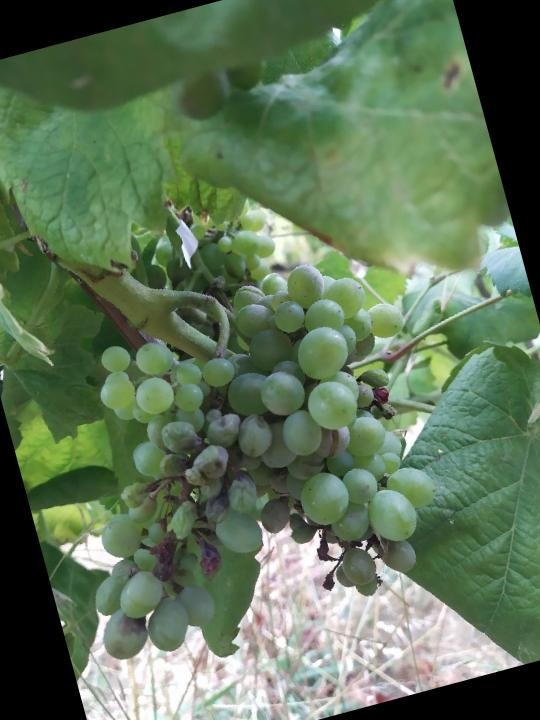grape: (20, 239, 475, 672)
